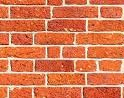brick: (9, 5, 52, 19), (76, 32, 124, 44), (53, 6, 98, 18), (33, 87, 82, 98), (46, 73, 85, 86), (1, 47, 46, 58), (1, 73, 45, 84), (36, 60, 73, 72), (1, 20, 45, 30), (34, 33, 74, 44), (48, 20, 86, 31), (87, 75, 124, 85), (88, 20, 124, 30), (88, 47, 124, 57), (84, 88, 122, 97), (99, 60, 124, 72), (100, 6, 123, 18), (10, 33, 34, 44), (10, 60, 33, 71), (77, 59, 97, 71), (10, 88, 31, 98), (64, 47, 84, 57), (1, 1, 46, 5), (47, 47, 61, 57), (89, 1, 124, 5), (1, 32, 10, 45), (64, 1, 87, 5), (1, 59, 9, 69), (46, 1, 63, 5), (1, 88, 8, 96)
